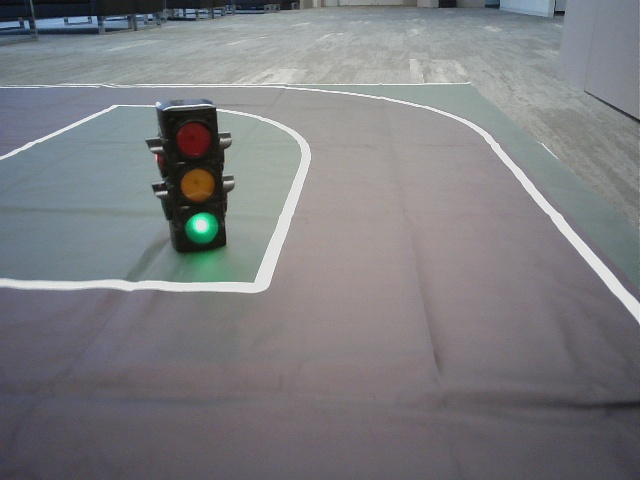green: (165, 110, 221, 248)
